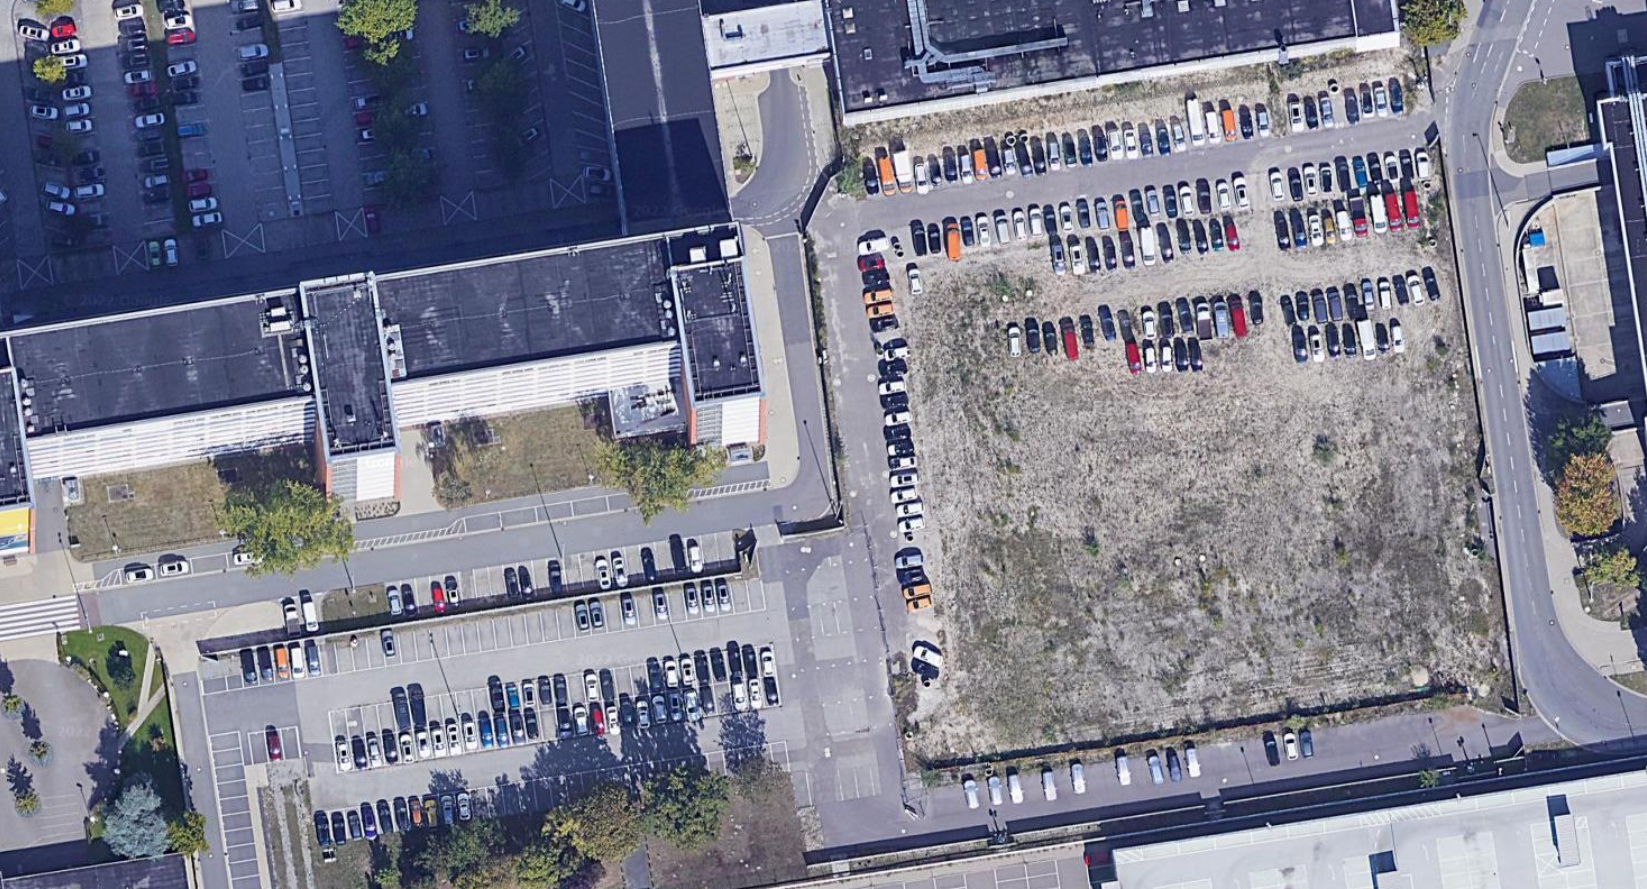car: (891, 151, 914, 194), (875, 154, 896, 194), (239, 648, 258, 685), (1229, 298, 1246, 338), (1343, 93, 1362, 127), (1139, 226, 1156, 266), (1205, 112, 1223, 146), (1307, 330, 1325, 363), (283, 603, 302, 637), (500, 45, 527, 68), (1319, 99, 1337, 131), (1262, 734, 1280, 766), (1423, 272, 1442, 302), (40, 180, 71, 199), (239, 42, 269, 61), (1014, 146, 1033, 177), (1335, 210, 1354, 242), (1197, 303, 1213, 342), (857, 236, 890, 254), (1125, 343, 1143, 376), (1280, 296, 1298, 328), (257, 647, 274, 682), (1170, 123, 1188, 153), (62, 101, 90, 122), (1222, 109, 1239, 143), (1407, 272, 1424, 305), (1051, 243, 1067, 277), (1308, 215, 1324, 249), (440, 794, 456, 828), (1030, 145, 1047, 176), (1399, 149, 1416, 181), (1233, 175, 1251, 207), (1158, 231, 1175, 263), (683, 690, 700, 721), (641, 552, 659, 584), (44, 199, 76, 217), (857, 253, 886, 272), (972, 149, 988, 182), (1156, 125, 1172, 158), (1288, 101, 1304, 134), (1275, 218, 1291, 251), (446, 724, 463, 757), (144, 169, 172, 188), (72, 183, 105, 199), (1123, 129, 1140, 160), (963, 778, 981, 809), (272, 648, 290, 679), (366, 737, 383, 767), (397, 102, 428, 119), (581, 165, 612, 183), (1214, 302, 1228, 339), (132, 94, 161, 113), (862, 164, 879, 196), (986, 147, 1002, 178), (1107, 129, 1124, 161), (1288, 171, 1304, 203), (315, 815, 332, 846), (19, 24, 50, 41), (301, 602, 318, 632), (179, 166, 209, 184), (142, 187, 172, 205), (135, 112, 164, 129), (114, 3, 143, 21), (913, 163, 929, 194), (1178, 302, 1194, 333), (1325, 326, 1341, 359), (1070, 244, 1086, 277), (1121, 240, 1137, 270), (1291, 218, 1308, 249), (903, 584, 933, 600), (1042, 770, 1057, 803), (163, 238, 179, 268), (192, 212, 222, 229), (184, 183, 214, 199), (28, 105, 59, 122), (165, 28, 196, 45), (863, 288, 892, 305), (1294, 328, 1308, 363), (51, 37, 80, 55), (513, 125, 538, 145), (66, 118, 92, 137), (941, 152, 956, 184), (1336, 161, 1352, 193), (976, 216, 991, 247), (1007, 326, 1022, 358), (671, 544, 686, 576), (239, 60, 270, 76), (62, 85, 94, 101), (1367, 155, 1383, 185), (1393, 276, 1410, 305), (1312, 295, 1329, 324), (1223, 222, 1240, 252), (883, 425, 913, 441), (1008, 774, 1024, 804), (987, 776, 1004, 806), (509, 715, 525, 744), (595, 559, 612, 589), (160, 561, 189, 577), (336, 741, 352, 771), (424, 799, 440, 829), (730, 683, 747, 711), (172, 89, 199, 106), (1078, 137, 1093, 168), (1373, 88, 1389, 118), (1353, 158, 1368, 188), (912, 226, 927, 256), (1043, 325, 1058, 356), (1143, 344, 1158, 374), (1344, 287, 1359, 317), (1327, 291, 1343, 322), (890, 473, 920, 488), (1115, 755, 1130, 786), (290, 648, 305, 679), (306, 646, 322, 677), (456, 792, 472, 822), (1000, 147, 1017, 175), (1240, 109, 1254, 142), (1304, 99, 1319, 131), (1028, 208, 1044, 236), (884, 409, 913, 426), (886, 440, 915, 457), (895, 554, 924, 570), (904, 596, 932, 612), (1186, 747, 1201, 780), (1071, 762, 1086, 795), (764, 678, 780, 706), (651, 695, 668, 724), (588, 601, 604, 630), (548, 563, 562, 596), (494, 719, 510, 748), (378, 806, 394, 834), (189, 197, 218, 213), (164, 13, 193, 30), (346, 813, 363, 840), (958, 154, 973, 184), (1046, 142, 1062, 172), (1256, 109, 1272, 139), (1179, 186, 1194, 216), (1100, 312, 1115, 342), (889, 455, 918, 471), (890, 488, 919, 504), (636, 700, 651, 729), (685, 587, 700, 616), (716, 584, 731, 613), (612, 557, 627, 587), (233, 550, 263, 565), (463, 721, 478, 751), (332, 816, 347, 845), (124, 69, 153, 84), (1304, 165, 1319, 197), (1027, 322, 1041, 354), (1342, 327, 1356, 359), (554, 674, 568, 706), (1062, 141, 1078, 169), (896, 503, 924, 519), (1148, 757, 1164, 784), (28, 86, 56, 103), (59, 53, 86, 69), (1093, 132, 1107, 163), (1080, 317, 1094, 348), (1160, 309, 1174, 339), (1375, 327, 1390, 356), (1378, 282, 1393, 311), (1086, 245, 1101, 274), (1194, 228, 1209, 256), (744, 648, 758, 679), (573, 707, 589, 736), (402, 589, 417, 617), (381, 630, 396, 658), (479, 719, 494, 750), (431, 728, 446, 757), (147, 239, 161, 269), (1198, 184, 1213, 213), (1115, 200, 1129, 230), (866, 304, 895, 319), (877, 380, 906, 394), (668, 692, 682, 721), (585, 673, 600, 703), (558, 708, 572, 738), (701, 584, 716, 613), (399, 734, 414, 763), (871, 316, 898, 332), (898, 518, 926, 533), (431, 587, 446, 614), (126, 568, 153, 584), (416, 731, 431, 759), (383, 736, 398, 763), (363, 172, 391, 187), (465, 46, 492, 61), (1175, 340, 1188, 372), (749, 679, 762, 711), (363, 809, 376, 841), (883, 346, 912, 360), (1323, 218, 1337, 246), (680, 658, 694, 686), (606, 706, 620, 735), (622, 598, 636, 626), (519, 571, 533, 600), (268, 734, 282, 762), (1271, 171, 1284, 201), (1130, 192, 1144, 222), (1143, 310, 1156, 340), (1283, 734, 1298, 760), (730, 649, 743, 680), (538, 676, 552, 706), (575, 604, 590, 631), (1140, 132, 1155, 160), (1163, 190, 1178, 218), (995, 215, 1009, 242), (862, 272, 890, 286), (1104, 244, 1118, 272), (700, 686, 715, 714), (590, 706, 604, 734), (525, 712, 540, 739), (388, 589, 403, 616), (177, 122, 205, 136), (172, 76, 199, 90), (241, 79, 268, 93), (1361, 90, 1375, 119), (1361, 282, 1375, 312), (696, 656, 709, 685), (446, 579, 460, 609), (1251, 295, 1263, 326), (929, 160, 942, 188), (1390, 85, 1403, 114), (1384, 154, 1399, 181), (1320, 168, 1334, 194), (1216, 182, 1230, 208), (908, 268, 923, 295), (1168, 755, 1182, 782), (1300, 730, 1313, 759), (712, 653, 726, 681), (620, 700, 634, 728), (688, 546, 703, 573), (504, 571, 519, 598), (410, 799, 424, 828), (364, 207, 379, 233), (1188, 339, 1201, 370), (1416, 151, 1429, 178), (1147, 189, 1160, 217), (1044, 209, 1057, 236), (665, 660, 678, 688), (654, 592, 668, 620), (353, 742, 367, 770), (522, 683, 536, 708), (506, 684, 520, 709), (1297, 291, 1309, 321), (929, 228, 942, 254), (601, 672, 614, 698), (1013, 210, 1025, 239), (1161, 345, 1173, 373), (1078, 203, 1091, 228), (1178, 227, 1191, 252), (1210, 226, 1223, 251), (759, 651, 773, 677), (962, 220, 974, 247), (1097, 203, 1109, 229), (1060, 205, 1072, 231), (1392, 326, 1404, 353), (51, 24, 76, 37)
